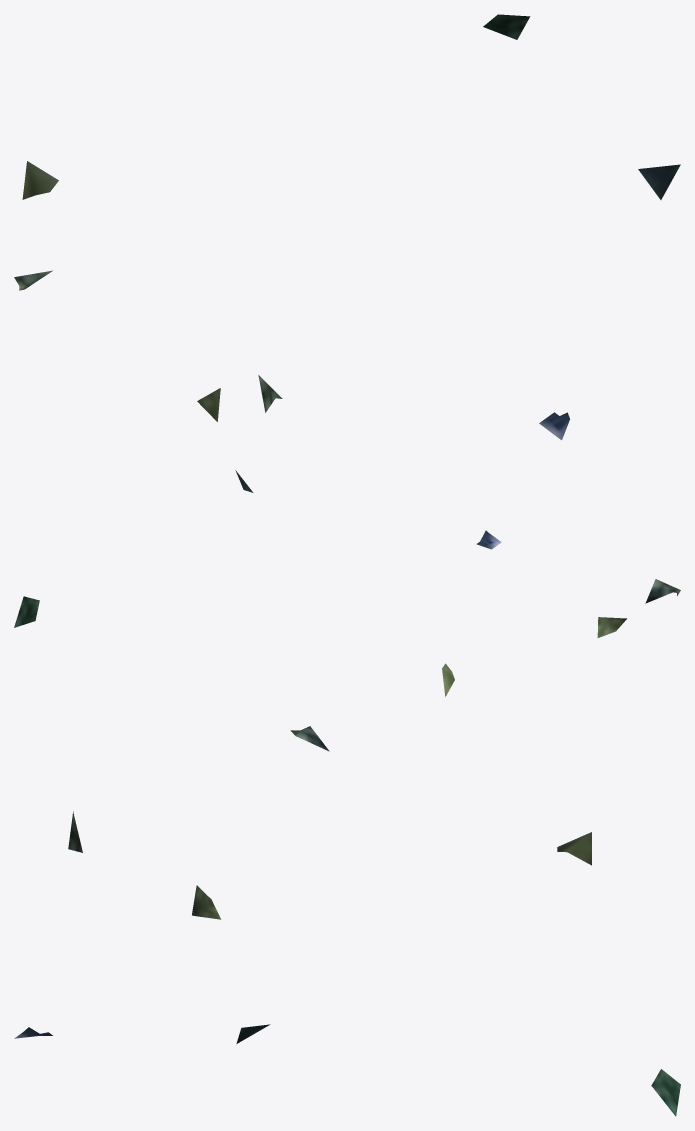
3 renders of one model, top to bottom at view 1: azimuth 30°, elevation 25°; view 2: azimuth 150°, elevation 25°; view 3: azimuth 270°, elevation 25°, orthographic. The views are drawn at different scales.
Parts seen in each view (by area): view 1: 30436272704370636610_1; view 2: 30436272704370636610_1; view 3: 30436272704370636610_1.
Boxes of the visible parts, left/top/right/bottom form: 30436272704370636610_1: left=14, top=14, right=680, bottom=440; 30436272704370636610_1: left=14, top=470, right=680, bottom=696; 30436272704370636610_1: left=14, top=726, right=680, bottom=1116.
Bounding box in the file's own units: 23.62 × 4.78 × 20.83.
Materials: 1 (1 with a texture image).
